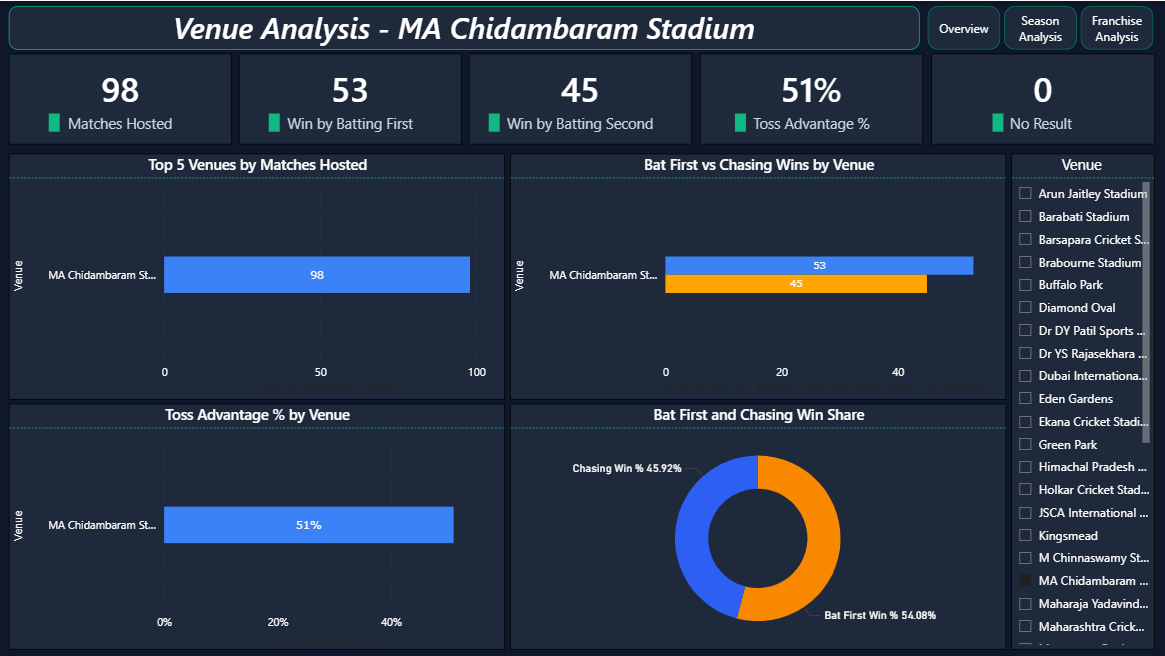

Layout of this report page (visuals, bound fields, positions):
{"tool":"powerbi","page":{"name":"Venue Analysis","canvas":[1280,720],"ordinal":2},"visuals":[{"type":"barChart","title":"Top 5 Venues by Matches Hosted","fields":{"Category":["ipl_venue_details.venue"],"Y":["Sum(ipl_venue_details.matches_hosted)"]},"box":[9.6,167.4,545,270],"z":0},{"type":"barChart","title":"Toss Advantage % by Venue","fields":{"Category":["ipl_venue_details.venue"],"Y":["ipl_venue_details.Toss Advantage %"]},"box":[9.6,441.9,544.8,270.3],"z":1000},{"type":"clusteredBarChart","title":"Bat First vs Chasing Wins by Venue","fields":{"Category":["ipl_venue_details.venue"],"Y":["Sum(ipl_venue_details.Win_by_Batting_First)","Sum(ipl_venue_details.Win_by_Batting_Second)"]},"box":[559.9,167.4,545,270],"z":2000},{"type":"donutChart","title":"Bat First and Chasing Win Share","fields":{"Y":["ipl_venue_details.Bat First Win %","ipl_venue_details.Chasing Win %"]},"box":[559.9,441.9,544.8,270.3],"z":3000},{"type":"card","fields":{"Values":["Sum(ipl_venue_details.matches_hosted)"]},"box":[10,58,245,100.2],"z":4000},{"type":"card","fields":{"Values":["Sum(ipl_venue_details.Win_by_Batting_First)"]},"box":[262,58,245,100.2],"z":5000},{"type":"card","fields":{"Values":["Sum(ipl_venue_details.Win_by_Batting_Second)"]},"box":[514,58,245,100.2],"z":6000},{"type":"card","fields":{"Values":["ipl_venue_details.Toss Advantage %"]},"box":[769,58,245,100.2],"z":7000},{"type":"card","fields":{"Values":["Sum(ipl_venue_details.No_result)"]},"box":[1022.3,58,245.6,100.2],"z":8000},{"type":"slicer","title":"Venue","fields":{"Values":["ipl_venue_details.venue"]},"box":[1110.1,167.4,157.8,544.8],"z":9000},{"type":"card","fields":{"Values":["ipl_venue_details.Venue Title"]},"box":[10,5,1000,48],"z":10000},{"type":"shape","box":[54,124,12.1,20],"z":11000},{"type":"shape","box":[295,124,12.1,20],"z":12000},{"type":"shape","box":[536,124,12.1,20],"z":13000},{"type":"shape","box":[807,124,12.1,20],"z":14000},{"type":"shape","box":[1089,124,12.1,20],"z":15000},{"type":"pageNavigator","box":[1018.2,4.8,249.7,48.3],"z":16000}]}

Visuals, with their boxes in screenshot pixels (x1, y1, x2, y2), scaled from the page's 1280x720 canvas onto the 1165x656 screenshot:
"Top 5 Venues by Matches Hosted" barChart: [x1=9, y1=153, x2=505, y2=399]
"Toss Advantage % by Venue" barChart: [x1=9, y1=403, x2=505, y2=649]
"Bat First vs Chasing Wins by Venue" clusteredBarChart: [x1=510, y1=153, x2=1006, y2=399]
"Bat First and Chasing Win Share" donutChart: [x1=510, y1=403, x2=1005, y2=649]
card - Sum(ipl_venue_details.matches_hosted): [x1=9, y1=53, x2=232, y2=144]
card - Sum(ipl_venue_details.Win_by_Batting_First): [x1=238, y1=53, x2=461, y2=144]
card - Sum(ipl_venue_details.Win_by_Batting_Second): [x1=468, y1=53, x2=691, y2=144]
card - ipl_venue_details.Toss Advantage %: [x1=700, y1=53, x2=923, y2=144]
card - Sum(ipl_venue_details.No_result): [x1=930, y1=53, x2=1154, y2=144]
"Venue" slicer: [x1=1010, y1=153, x2=1154, y2=649]
card - ipl_venue_details.Venue Title: [x1=9, y1=5, x2=919, y2=48]
shape: [x1=49, y1=113, x2=60, y2=131]
shape: [x1=268, y1=113, x2=280, y2=131]
shape: [x1=488, y1=113, x2=499, y2=131]
shape: [x1=734, y1=113, x2=746, y2=131]
shape: [x1=991, y1=113, x2=1002, y2=131]
pageNavigator: [x1=927, y1=4, x2=1154, y2=48]
